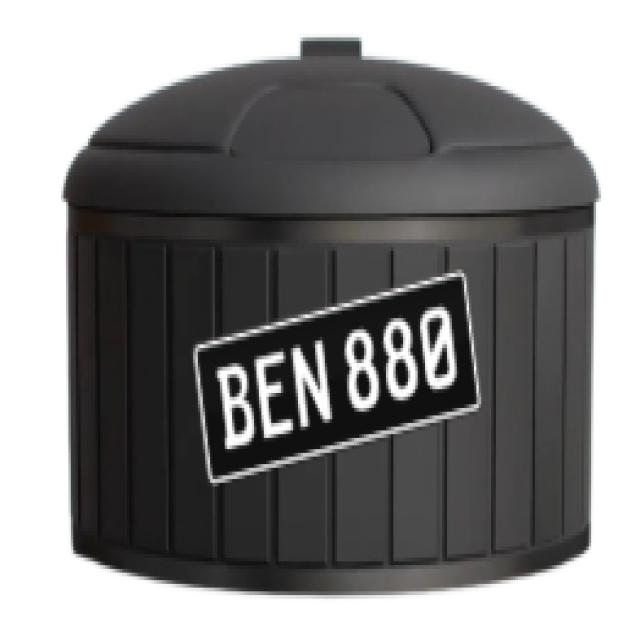bin_plate: (195, 273, 479, 483)
